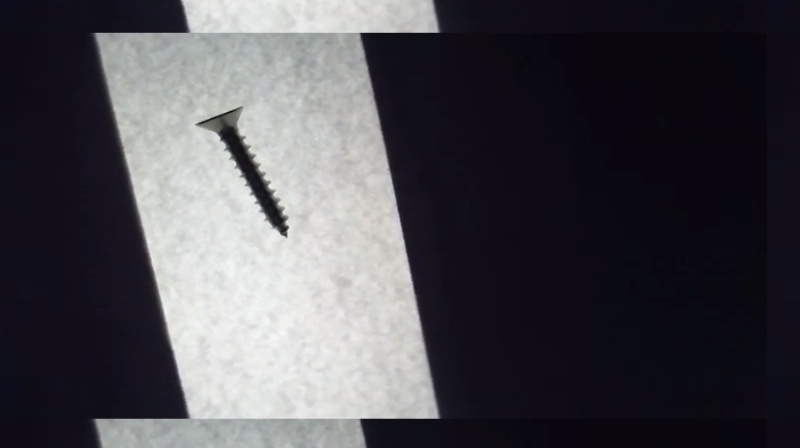S001: (190, 100, 292, 241)
